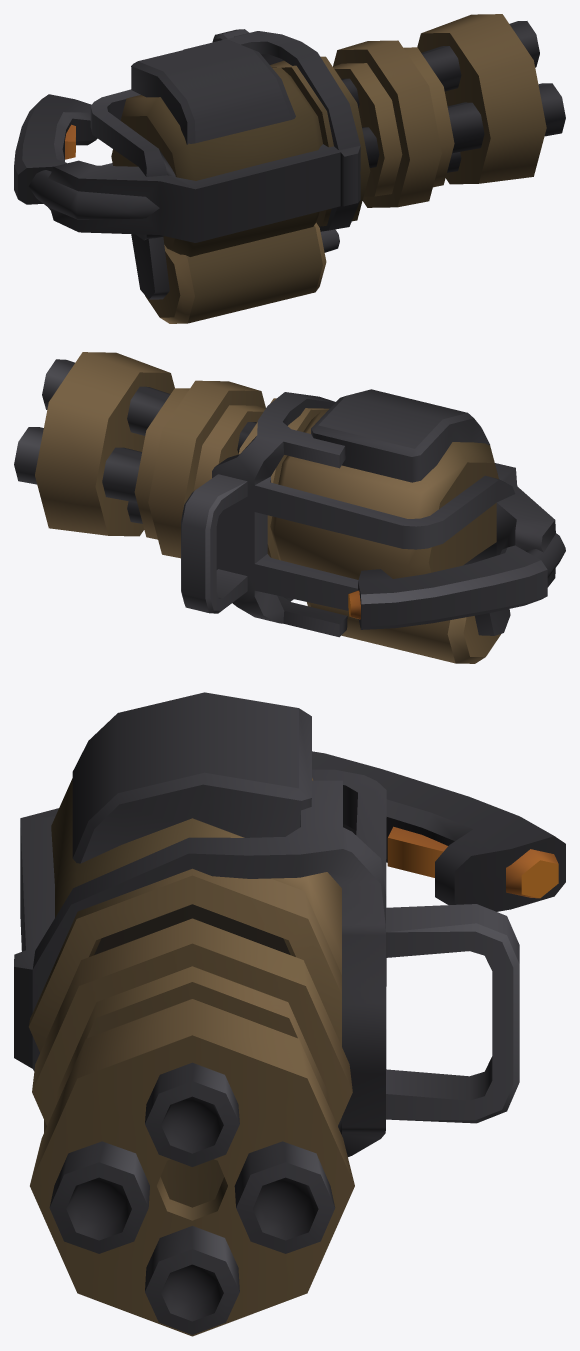
Rendered from Weapon_M134.fbx.
3 views of the same model, one above another, from view 1: azimuth 30°, elevation 25°; view 2: azimuth 150°, elevation 25°; view 3: azimuth 270°, elevation 25° (orthographic). The views are drawn at different scales.
Parts seen in each view (by area): view 1: Weapon_M134Minigun; view 2: Weapon_M134Minigun; view 3: Weapon_M134Minigun.
Part boxes in pixels (bbox=[...]): Weapon_M134Minigun: bbox=[14, 14, 565, 323]; Weapon_M134Minigun: bbox=[14, 352, 565, 663]; Weapon_M134Minigun: bbox=[14, 692, 565, 1336].
Size of the model in its own units: 0.764 by 0.3573 by 0.4104.
